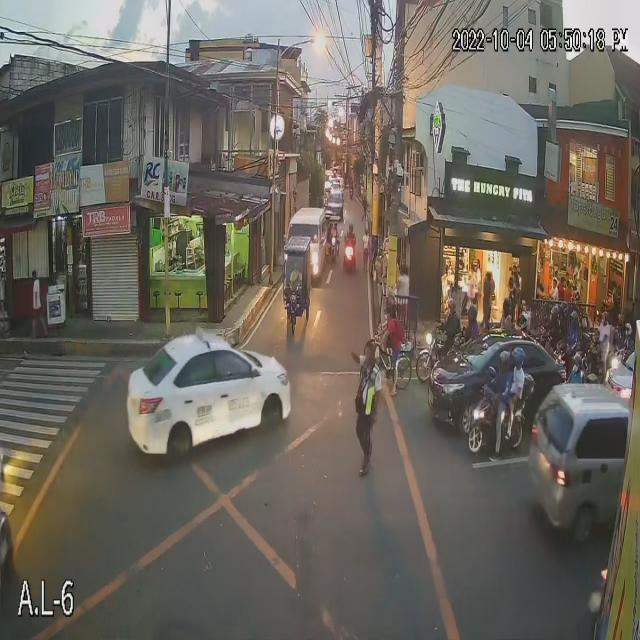helmet: (495, 348, 512, 376), (514, 305, 534, 327), (512, 345, 528, 372), (497, 295, 514, 320), (566, 309, 581, 331), (595, 310, 613, 327), (465, 302, 479, 323), (569, 355, 585, 372), (547, 305, 559, 327), (447, 294, 460, 313), (558, 298, 569, 319), (622, 321, 636, 333), (347, 221, 354, 237)
motorcycle: (465, 389, 535, 463), (414, 332, 451, 380), (339, 238, 358, 275)
rider: (490, 346, 513, 405), (452, 300, 484, 342), (510, 340, 529, 409), (438, 294, 463, 343), (565, 352, 591, 394), (594, 306, 613, 363), (492, 293, 516, 335), (563, 310, 585, 355), (544, 302, 564, 349), (554, 294, 572, 338), (514, 304, 534, 337), (342, 219, 357, 249), (620, 321, 632, 354)
